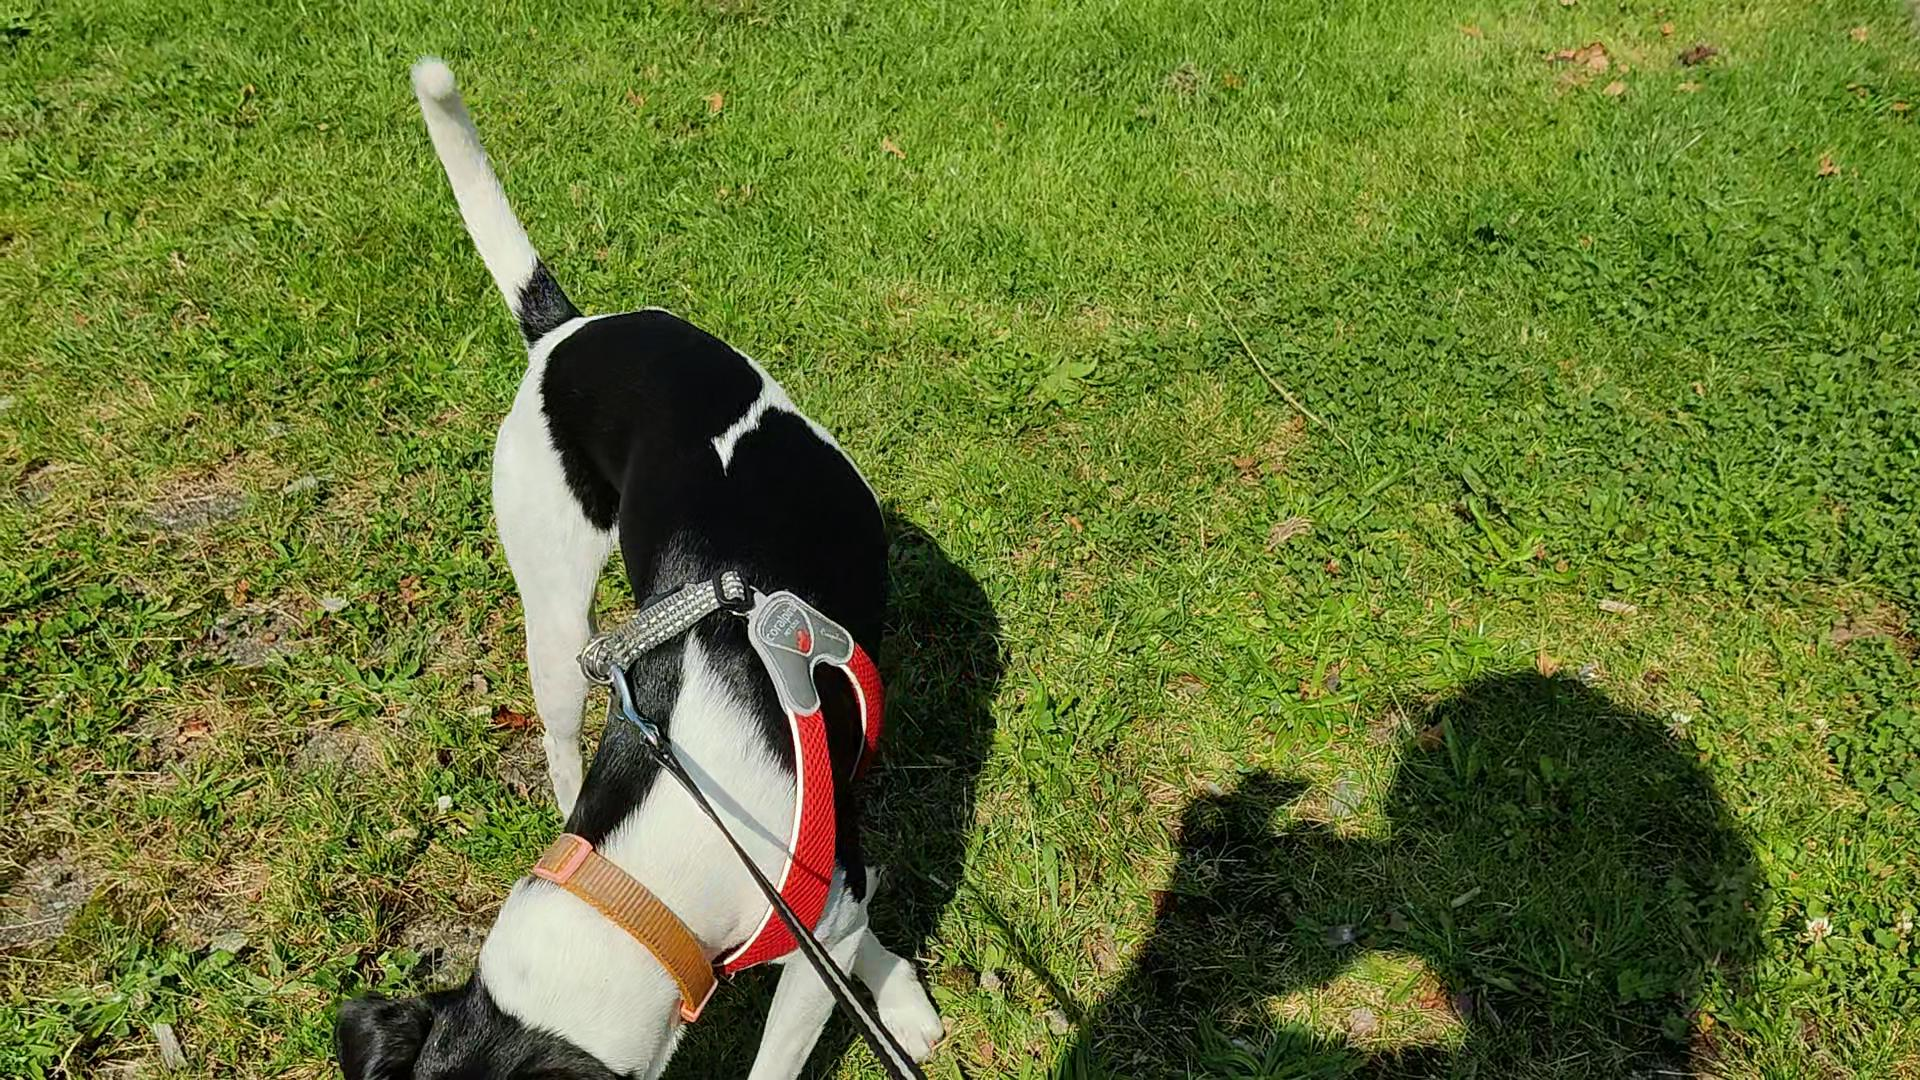Dog: (327, 53, 949, 1079)
